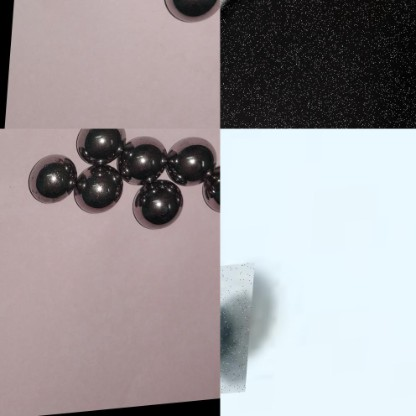ironball: (220, 0, 415, 128), (220, 265, 257, 405), (27, 150, 79, 204), (166, 133, 216, 189), (72, 163, 123, 216), (129, 181, 184, 228), (120, 132, 167, 184), (70, 128, 128, 163), (160, 0, 217, 24), (197, 163, 222, 214)
